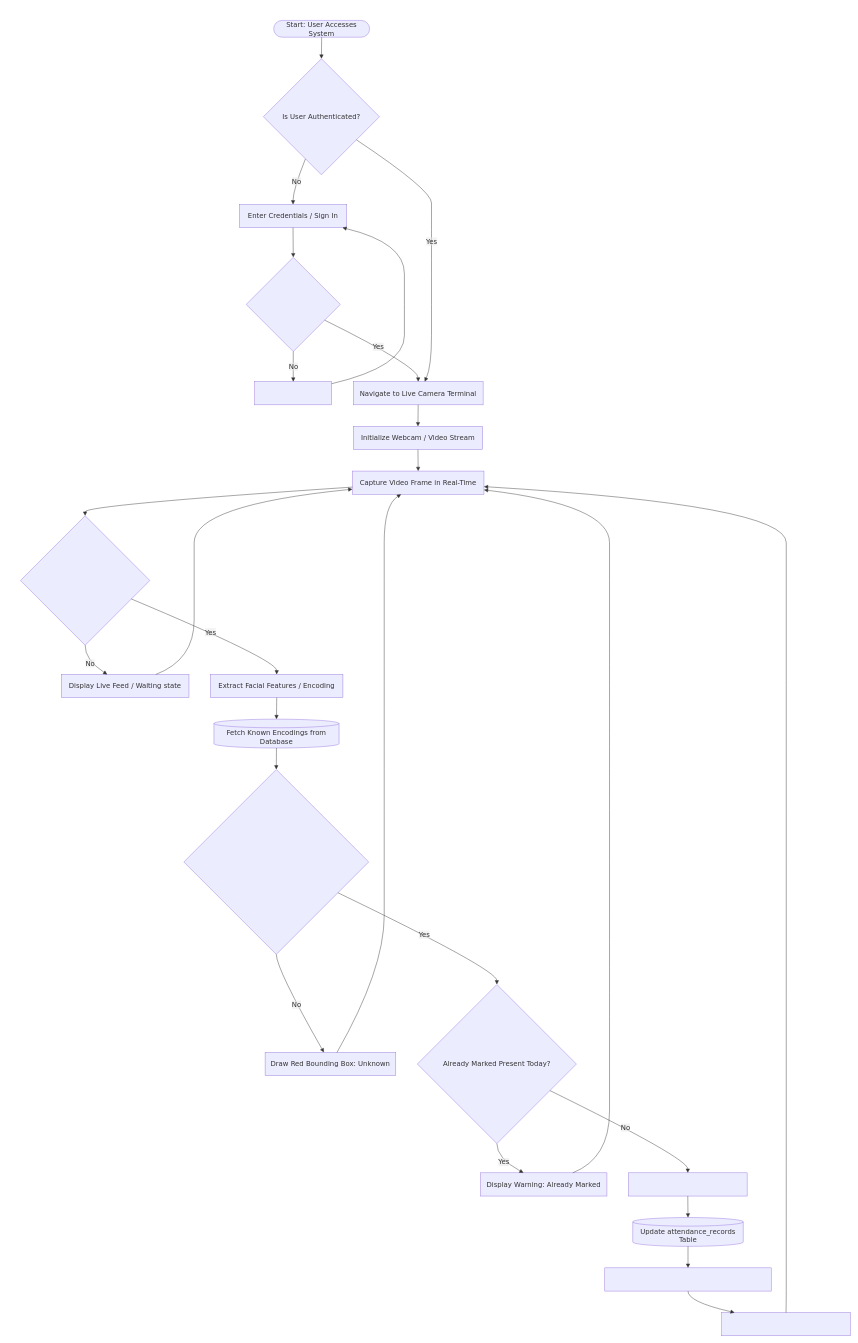
The diagram is 858 pixels wide and 1343 high, and some of its shapes have lost their labels. Here are the shapes that lost their labels. From the top down, the box of each, then its label:
(246, 257, 340, 352): Valid Credentials?
(254, 381, 332, 405): Show Error Toast
(20, 515, 150, 645): Face Detected in Frame?
(183, 769, 369, 954): Match Found? Distance <= Threshold
(628, 1172, 747, 1196): Save Attendance Record to DB
(604, 1267, 771, 1291): Draw Green Bounding Box with Student Name
(721, 1312, 850, 1336): Trigger Success Notification Toast
